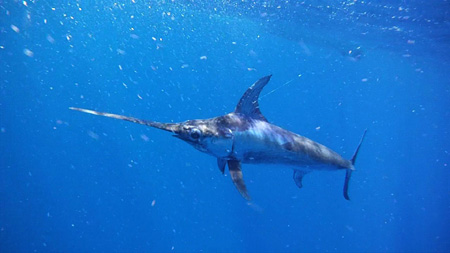swordfish: (64, 76, 381, 214)
